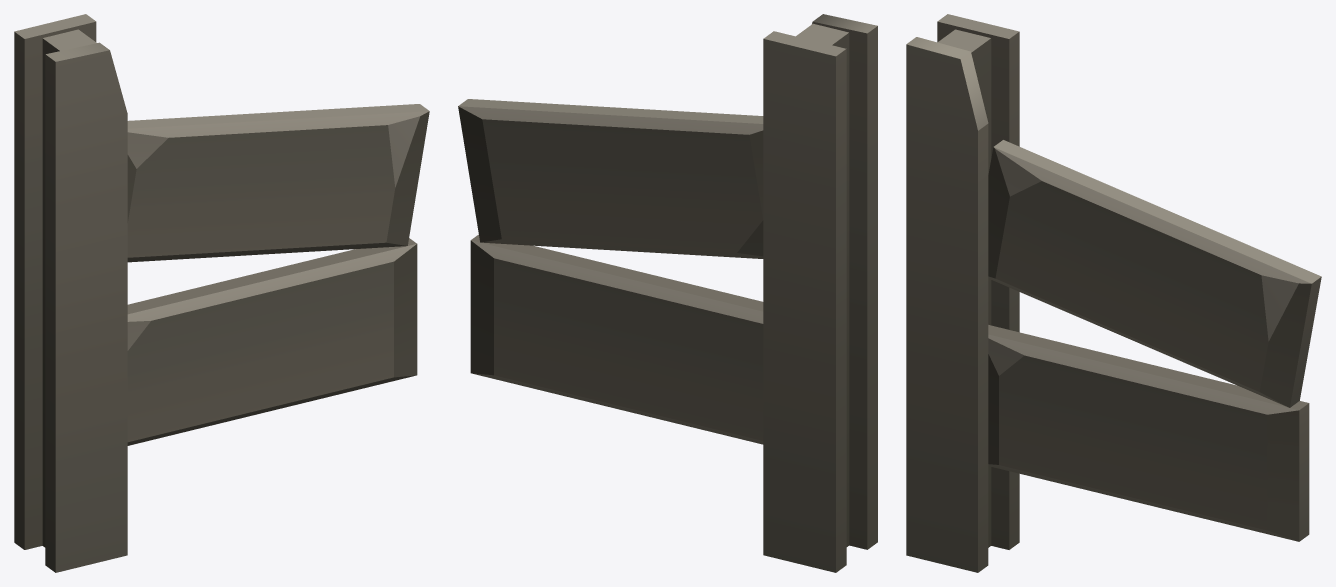
Rendered from Concrete_Fence_1B.fbx.
The picture shows the model from 3 angles, left to right: view 1: azimuth 30°, elevation 25°; view 2: azimuth 150°, elevation 25°; view 3: azimuth 330°, elevation 25°; orthographic projection.
Visible parts, largest first — view 1: Concrete_Fence_1B; view 2: Concrete_Fence_1B; view 3: Concrete_Fence_1B.
Part boxes in pixels (bbox=[...]): Concrete_Fence_1B: bbox=[14, 14, 429, 572]; Concrete_Fence_1B: bbox=[458, 14, 877, 572]; Concrete_Fence_1B: bbox=[906, 14, 1321, 572].
Bounding box in the file's own units: 217 × 272 × 40.
